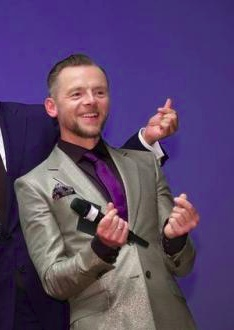oneheart: (92, 200, 138, 246), (162, 193, 203, 234), (144, 96, 182, 134)
